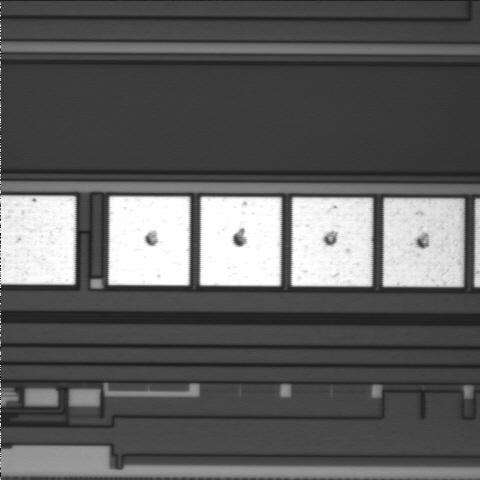pad: (109, 196, 190, 285), (200, 197, 281, 286), (292, 197, 373, 286), (383, 198, 464, 287)
